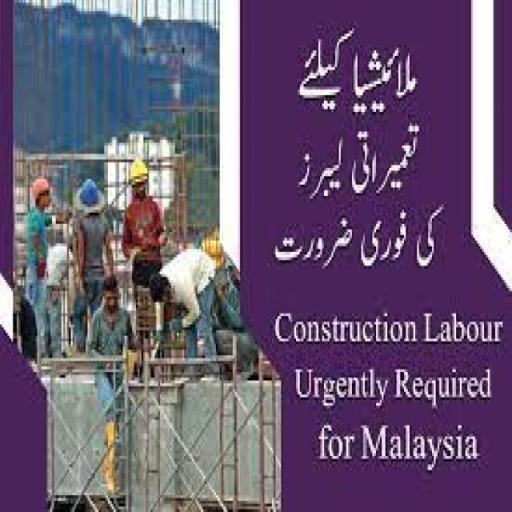helmet: (74, 174, 104, 215), (26, 170, 54, 208), (125, 152, 153, 190)
